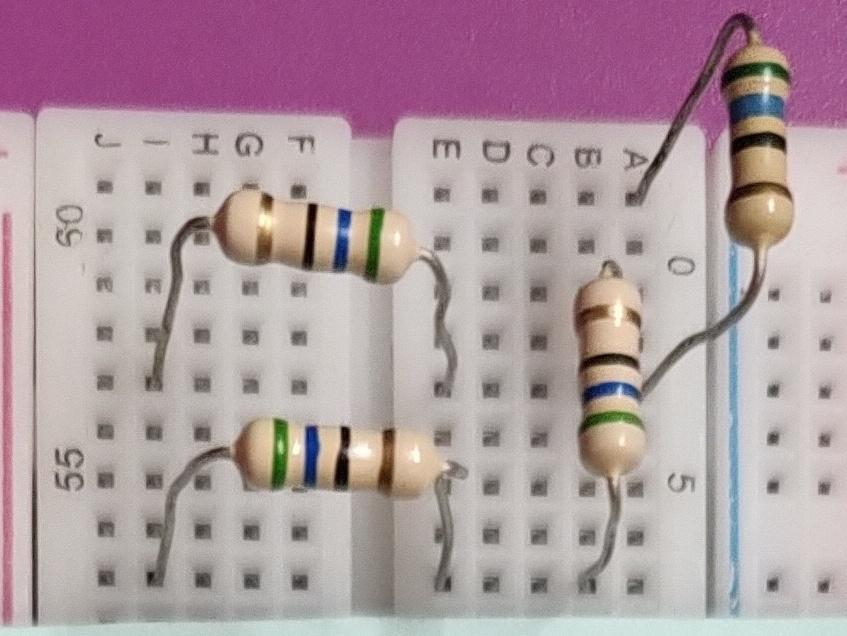resistor: (205, 177, 427, 300), (218, 399, 453, 511), (562, 270, 664, 502), (717, 28, 809, 261)
